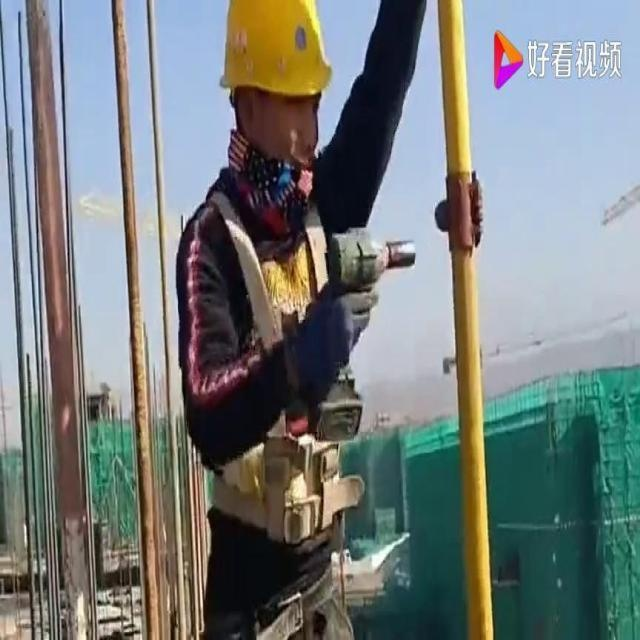Arnes_seguridad: (198, 165, 368, 548)
